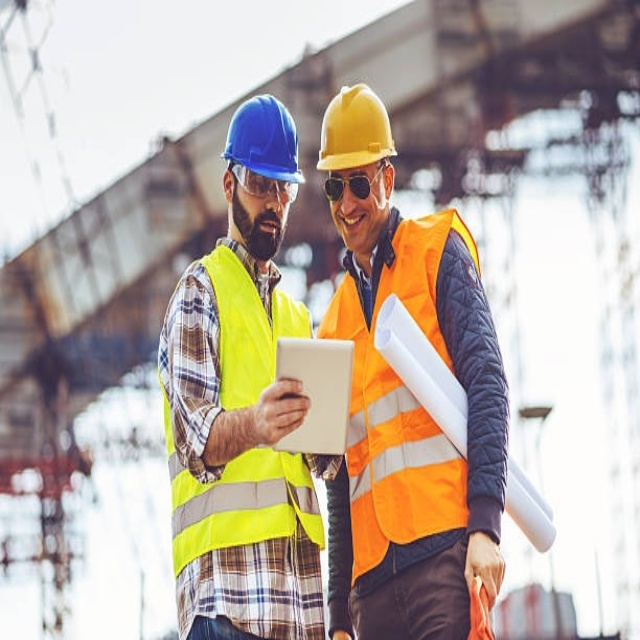Gafas: (231, 164, 299, 203), (324, 164, 388, 203)
Sin_guantes: (252, 374, 312, 445), (464, 531, 506, 613)
Sin_mascara: (337, 209, 370, 246), (255, 209, 284, 245)
